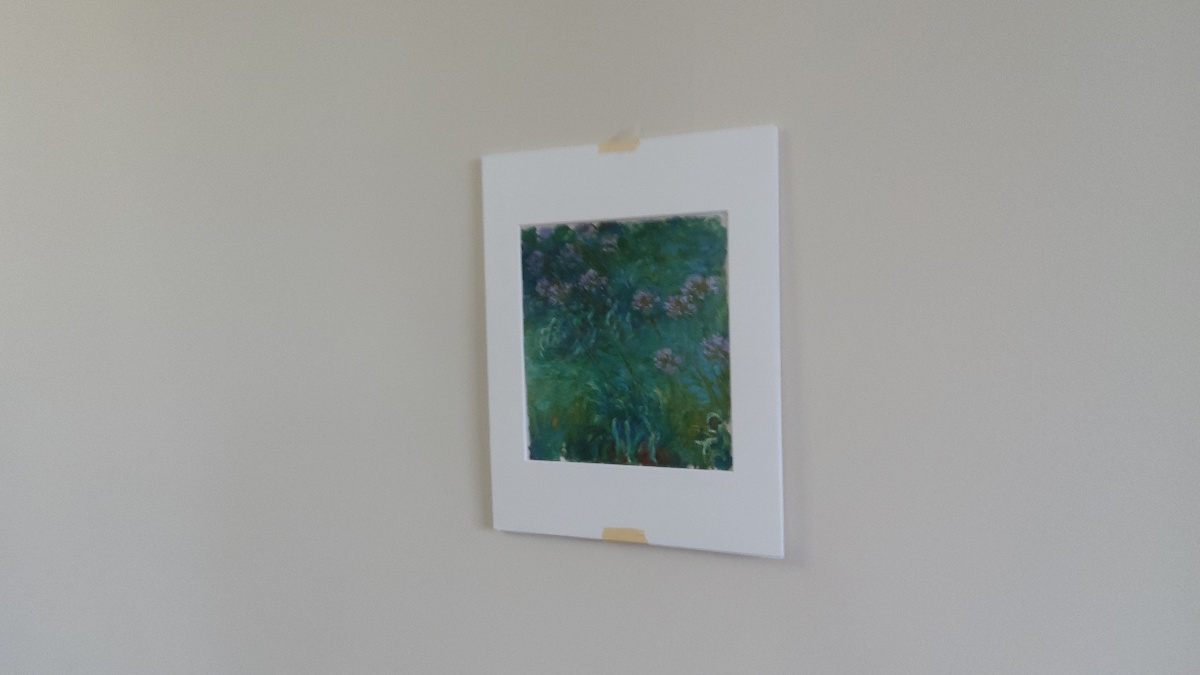painting: (509, 201, 741, 489)
